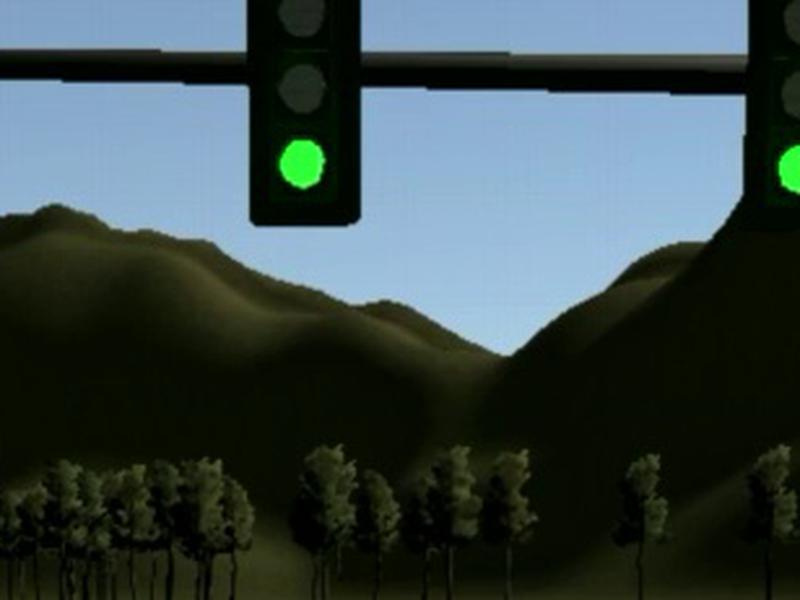Green: (246, 1, 364, 226), (744, 1, 800, 211)
